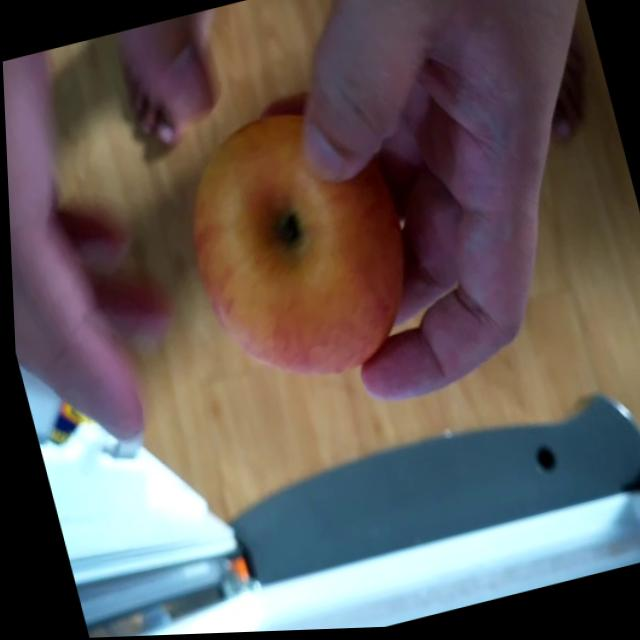apple: (163, 88, 435, 403)
